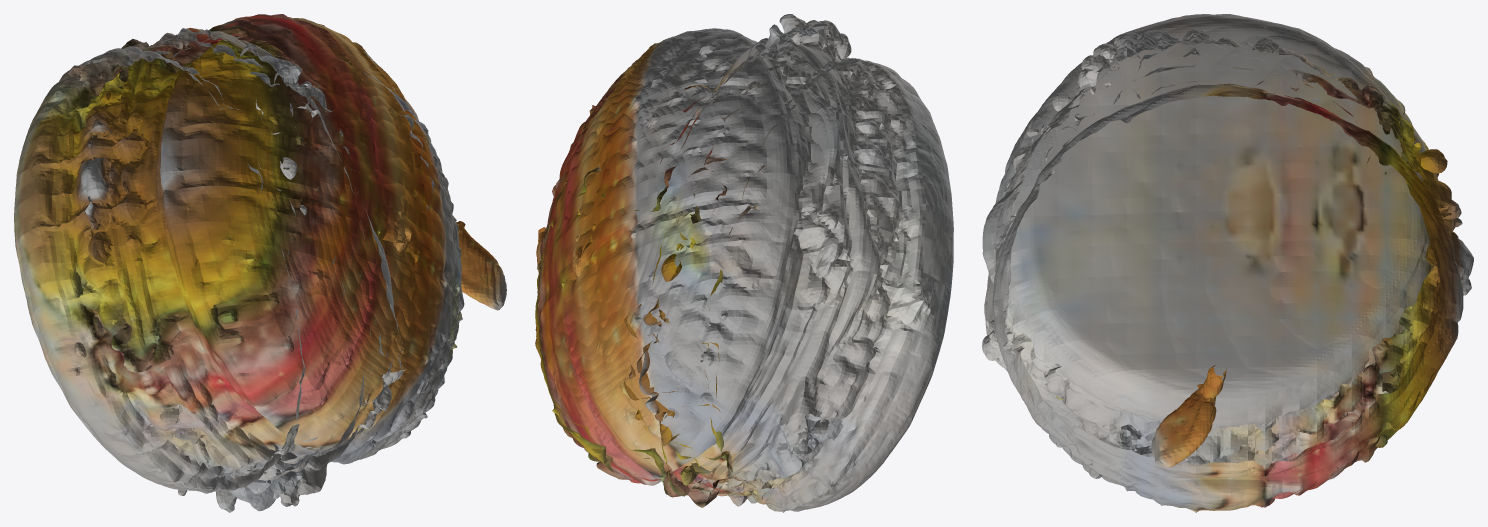
The model's file is hamburger_highres.glb.
3 views of the same model, side by side, from view 1: azimuth 30°, elevation 25°; view 2: azimuth 150°, elevation 25°; view 3: azimuth 270°, elevation 25° (orthographic).
Parts seen in each view (by area): view 1: world; view 2: world; view 3: world.
Part boxes in pixels (bbox=[...]): world: bbox=[14, 14, 506, 512]; world: bbox=[535, 14, 953, 512]; world: bbox=[982, 14, 1473, 512].
Bounding box in the file's own units: 0.6575 × 0.8056 × 0.7764.
